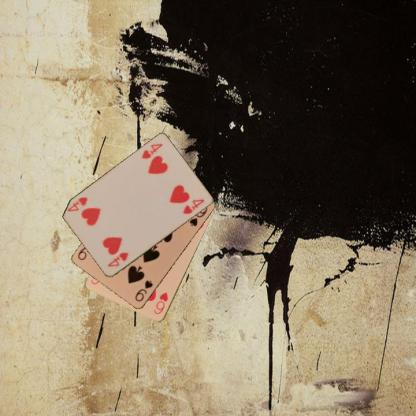4h: (139, 141, 164, 160), (104, 250, 130, 268)
6h: (152, 290, 170, 316)
9s: (132, 278, 154, 303)
